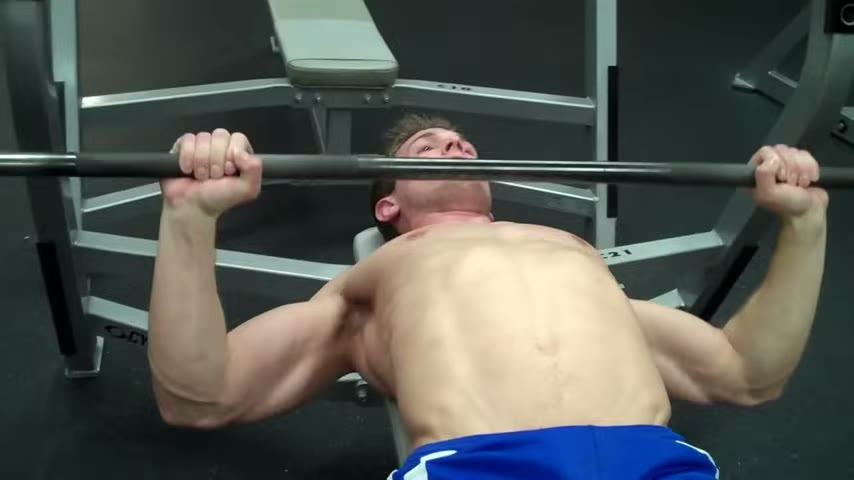barbell_plate_side: (55, 110, 192, 410)
